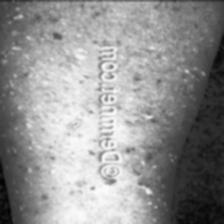Toxin: (0, 0, 92, 213), (123, 26, 171, 224), (176, 52, 204, 114)
